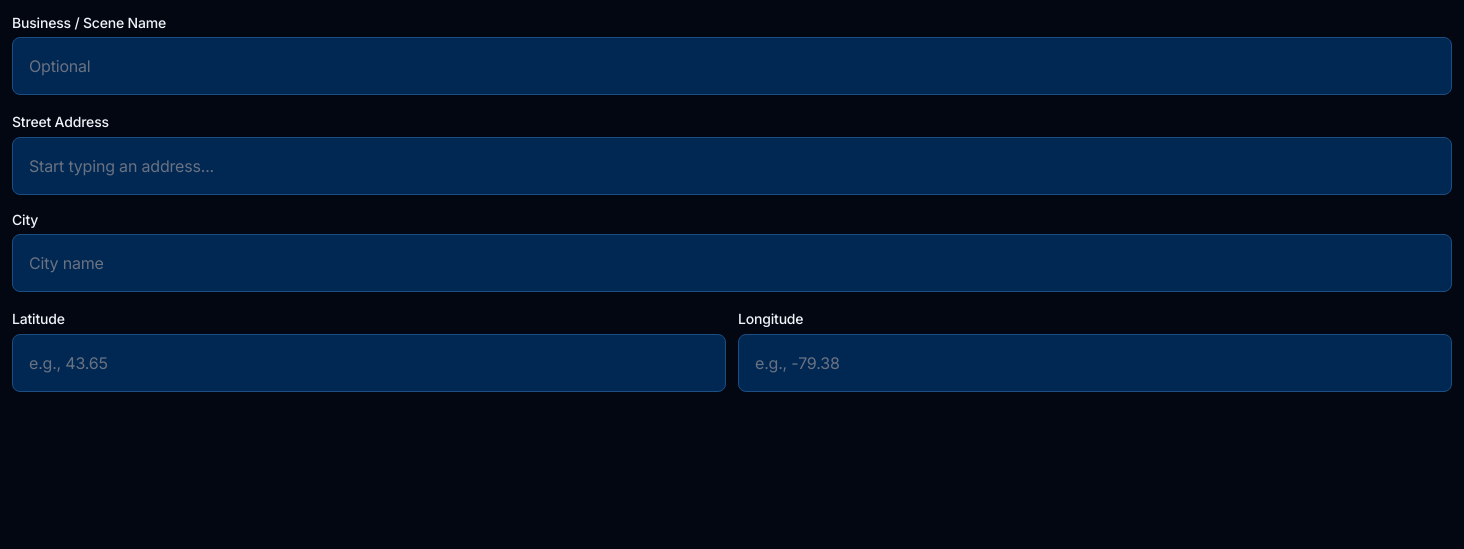
Test case: IncidentLocationFields — address pick › supersedes a reverse-geocode still in flight, and takes its spinner with it
Type "43.5" into the field named "Latitude".
click(369, 363); type("43.5")  # box [12,334,726,392]
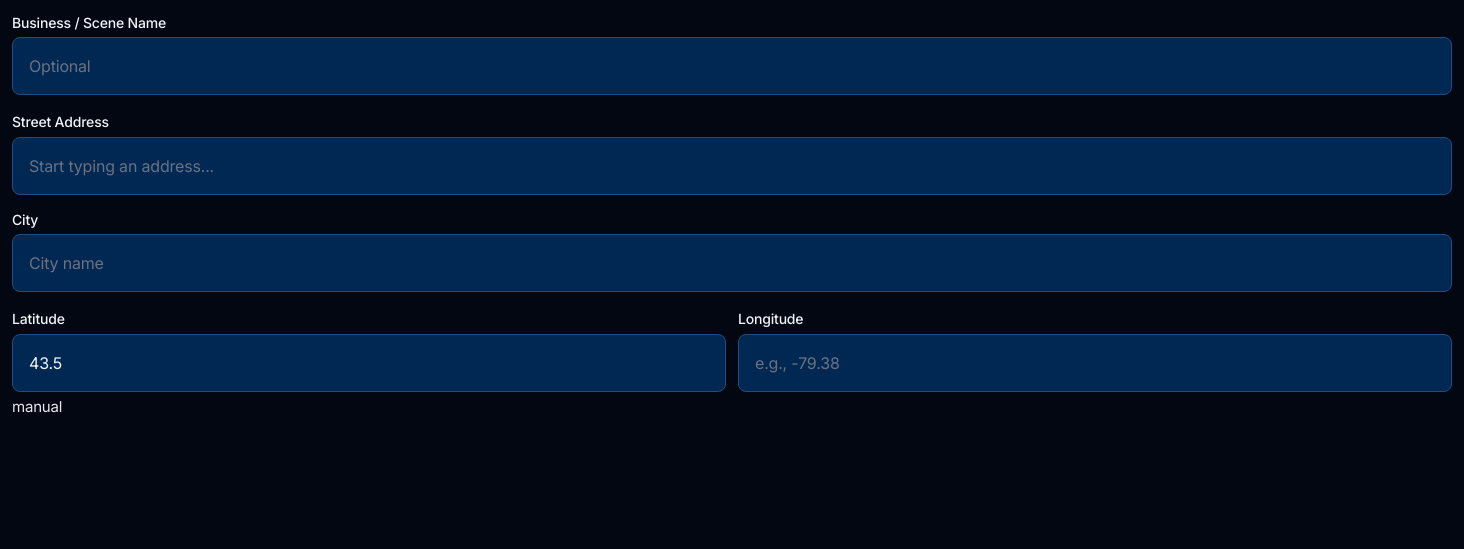
Type "-79.5" into the field named "Longitude".
click(1095, 363); type("-79.5")  # box [738,334,1452,392]
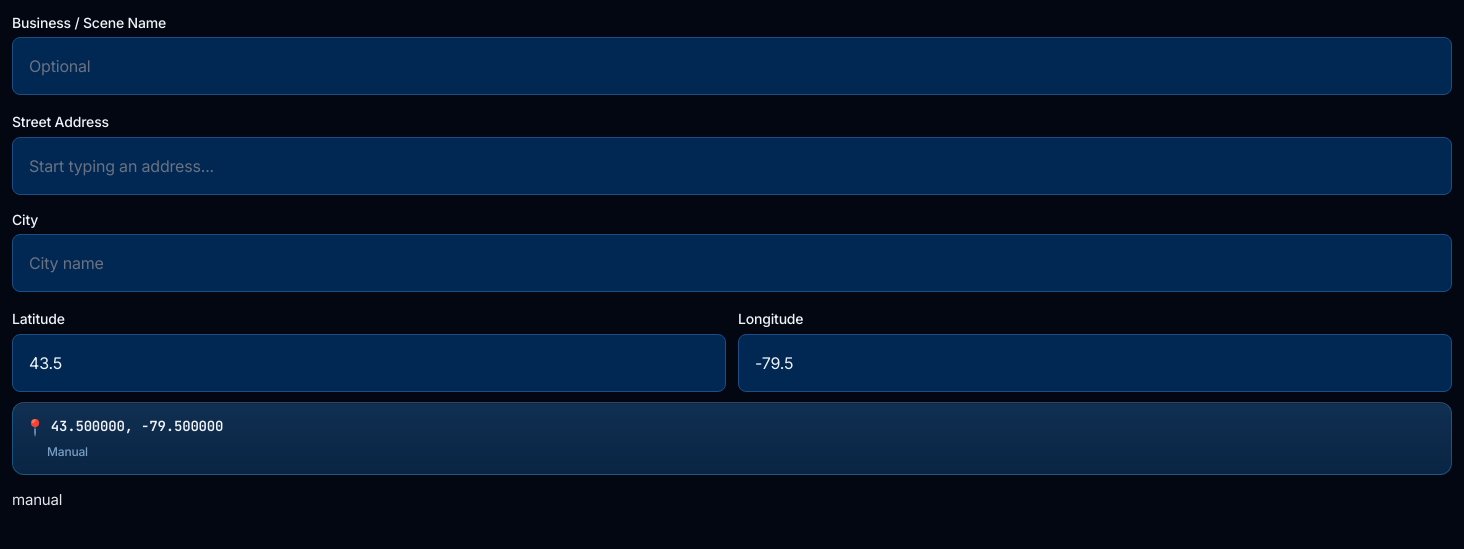
Leave the field named "Longitude", box [738,334,1452,392]
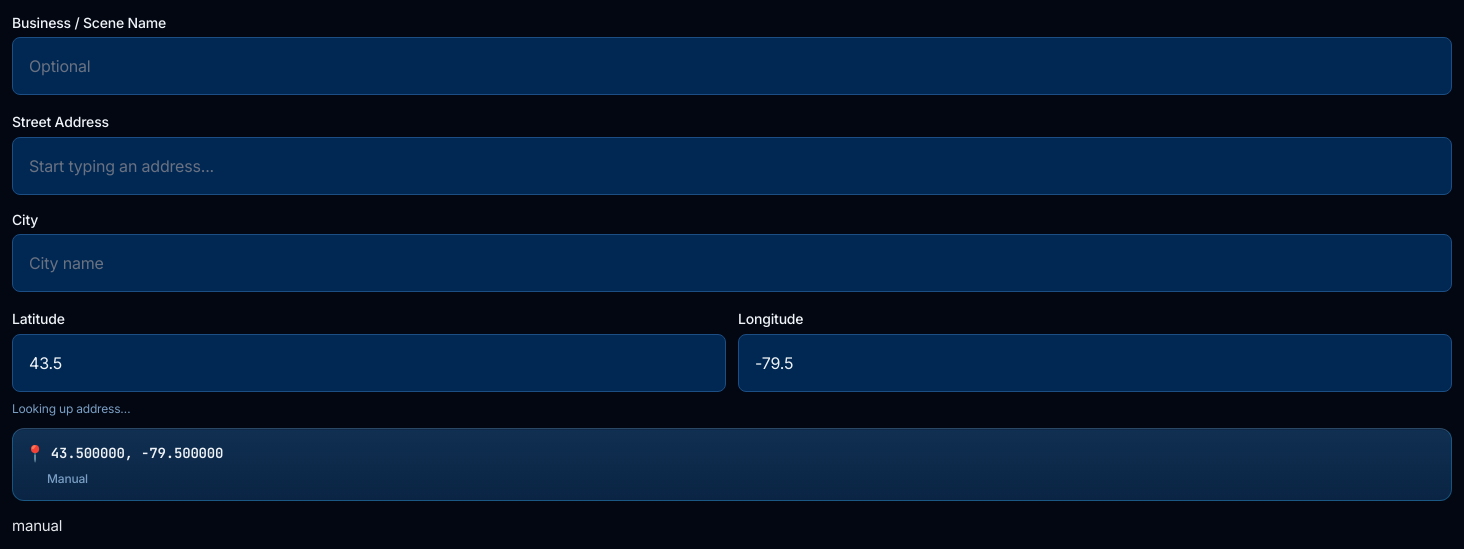
Now the message "Looking up address…" is shown, box [12,401,130,416]
Type "1450 Eg" into the dropdown named "Street Address".
click(732, 166); type("1450 Eg")  # box [12,137,1452,195]
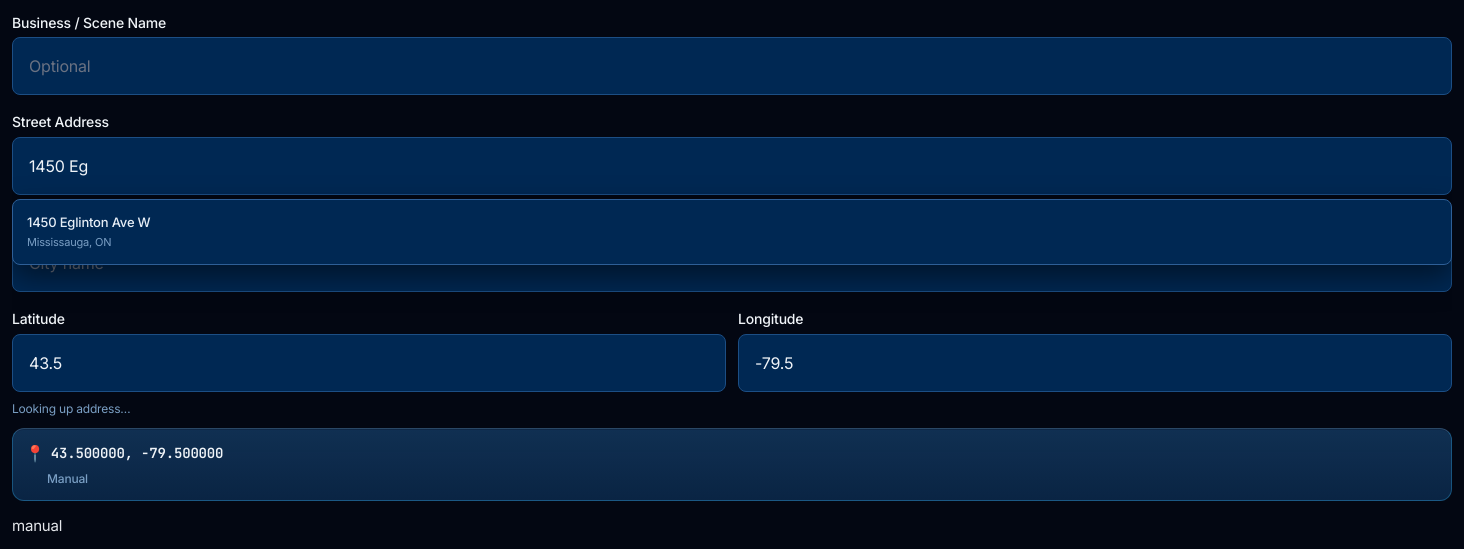
Now the list is shown, box [12,199,1452,265]
Click the text "1450 Eglinton Ave W".
click(89, 222)  # box [27,214,150,230]
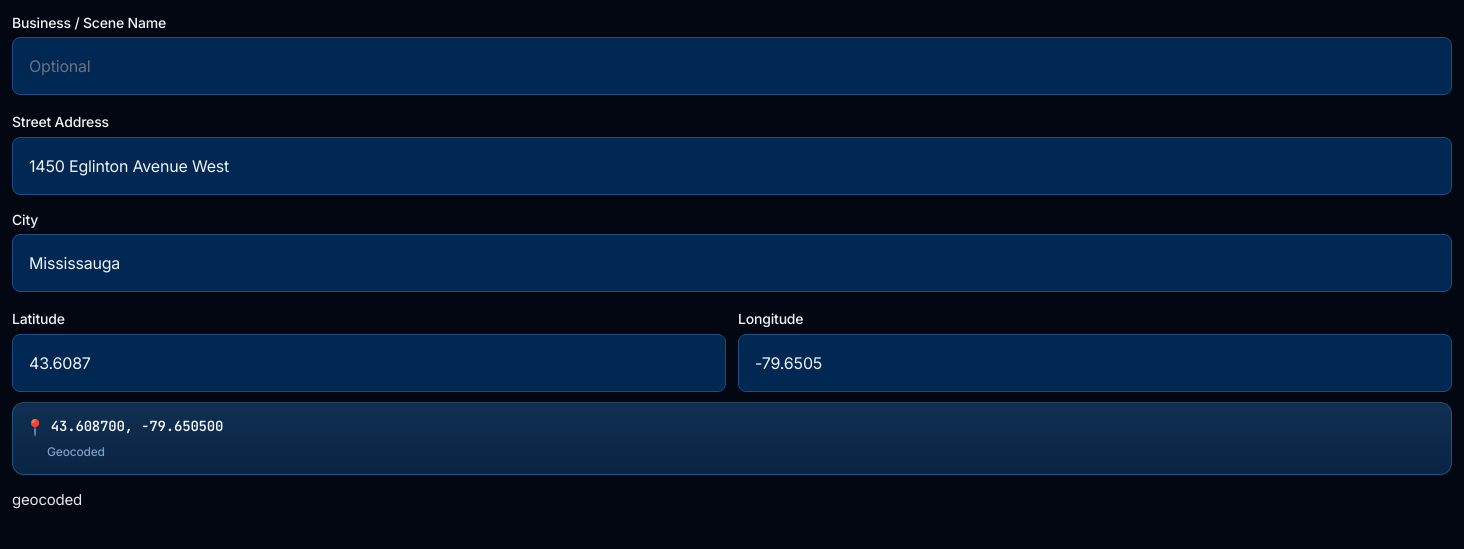
Now the message with test id "incident-lookup-status" is gone
Now the dropdown named "Street Address" holds "1450 Eglinton Avenue West", box [12,137,1452,195]
Now the field named "City" holds "Mississauga", box [12,234,1452,292]
